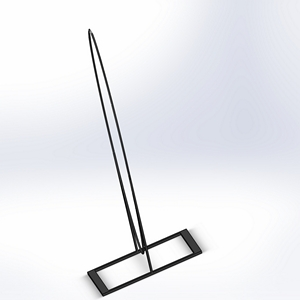circle: (85, 26, 203, 295)
